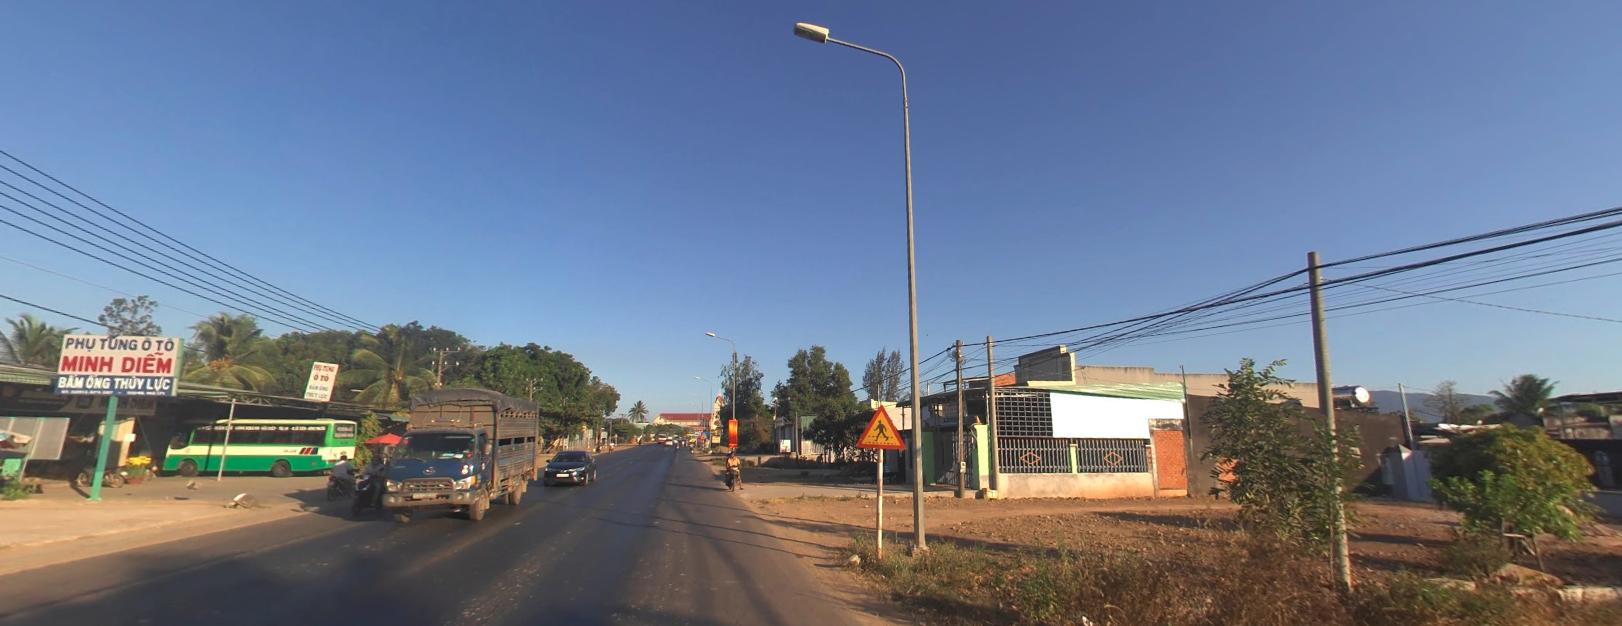Nguy hiem: (855, 403, 906, 448), (700, 433, 705, 437)
